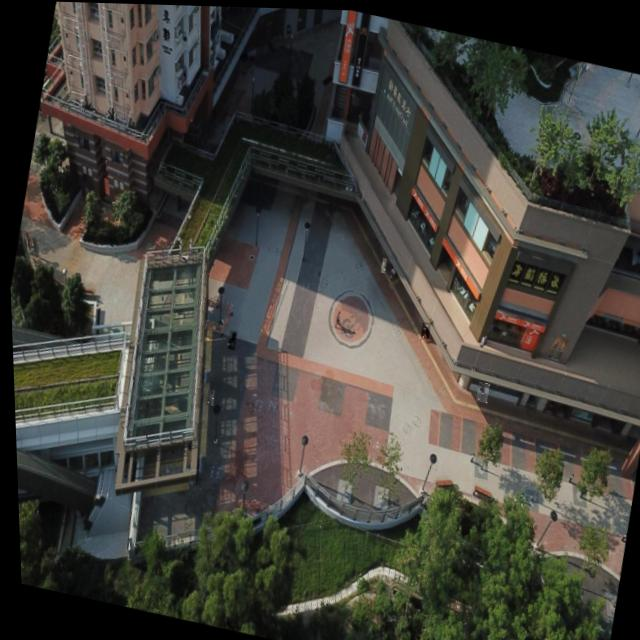Person: (472, 378, 488, 401), (417, 319, 429, 340), (224, 329, 235, 349), (203, 387, 212, 405), (378, 256, 386, 271), (585, 60, 595, 68)
